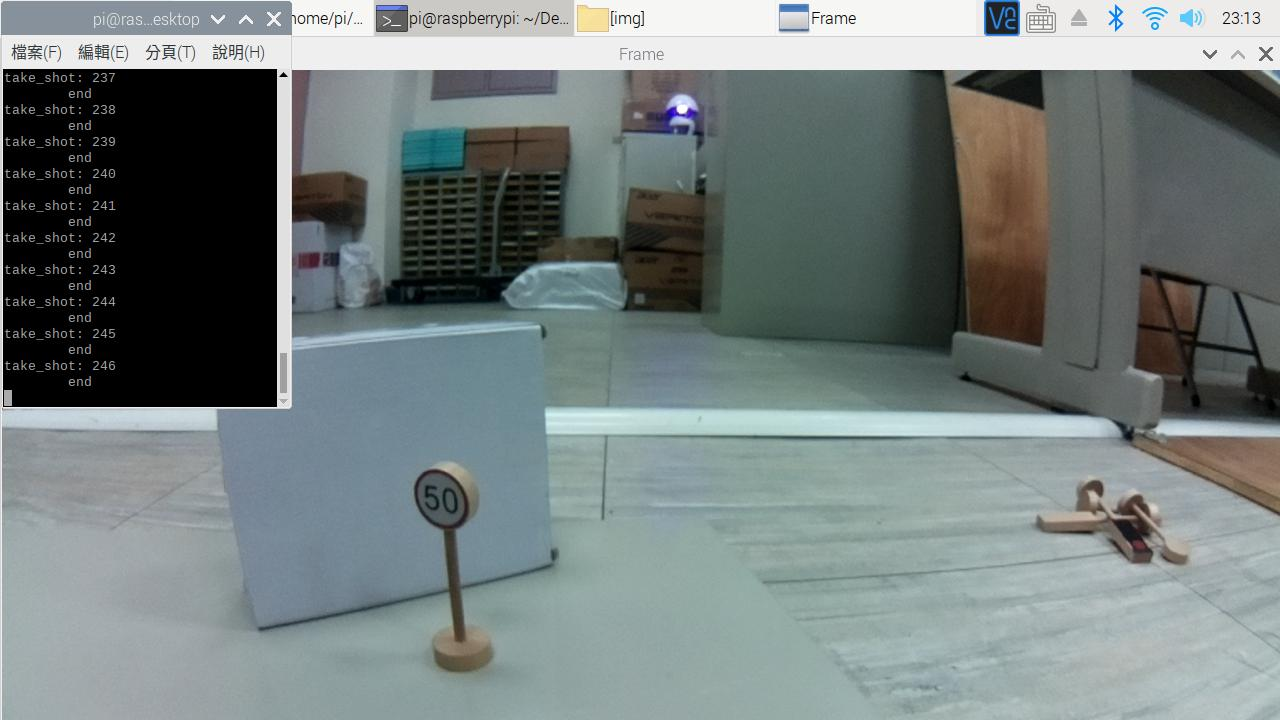Speed50: (398, 452, 490, 546)
